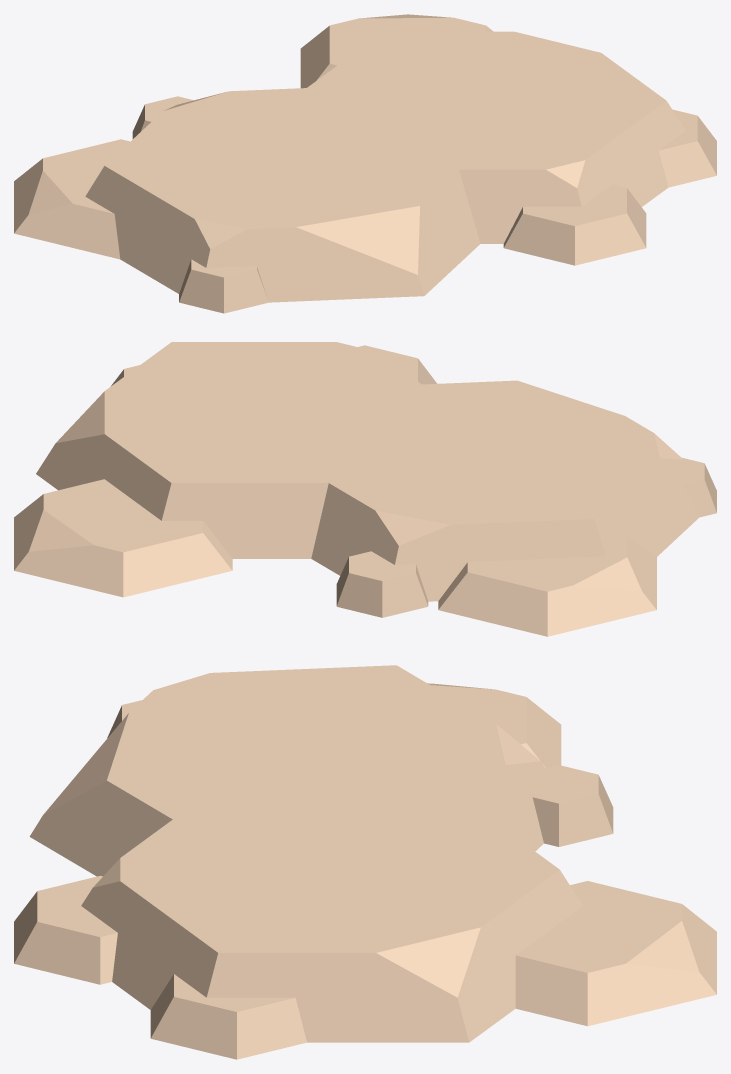
The model's file is platform_beach.fbx.
3 renders of one model, top to bottom at view 1: azimuth 30°, elevation 25°; view 2: azimuth 150°, elevation 25°; view 3: azimuth 270°, elevation 25°, orthographic. The views are drawn at different scales.
Parts seen in each view (by area): view 1: platform_beach; view 2: platform_beach; view 3: platform_beach.
Part boxes in pixels (x1=…): platform_beach: x1=14, y1=14, x2=716, y2=313; platform_beach: x1=14, y1=342, x2=716, y2=636; platform_beach: x1=14, y1=665, x2=716, y2=1059.
Size of the model in its own units: 8.93 by 0.825 by 7.24.
